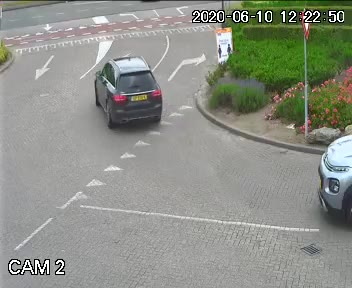car: (84, 54, 171, 131)
